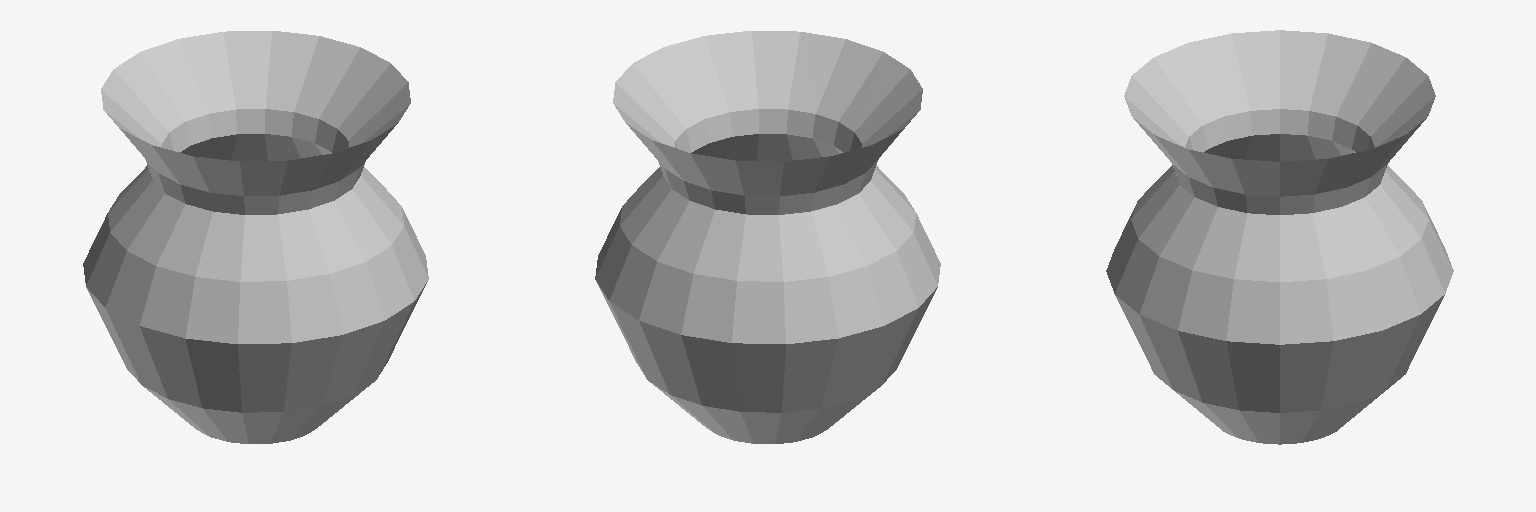
File: vase1.obj
3 views of the same model, side by side, from view 1: azimuth 30°, elevation 25°; view 2: azimuth 150°, elevation 25°; view 3: azimuth 270°, elevation 25° (orthographic).
Parts seen in each view (by area): view 1: vase1; view 2: vase1; view 3: vase1.
Boxes of the visible parts, x1=… form: vase1: x1=83, y1=31, x2=428, y2=443; vase1: x1=595, y1=31, x2=940, y2=443; vase1: x1=1106, y1=30, x2=1453, y2=444.
Bounding box in the file's own units: 0.4942 × 0.5017 × 0.4942.